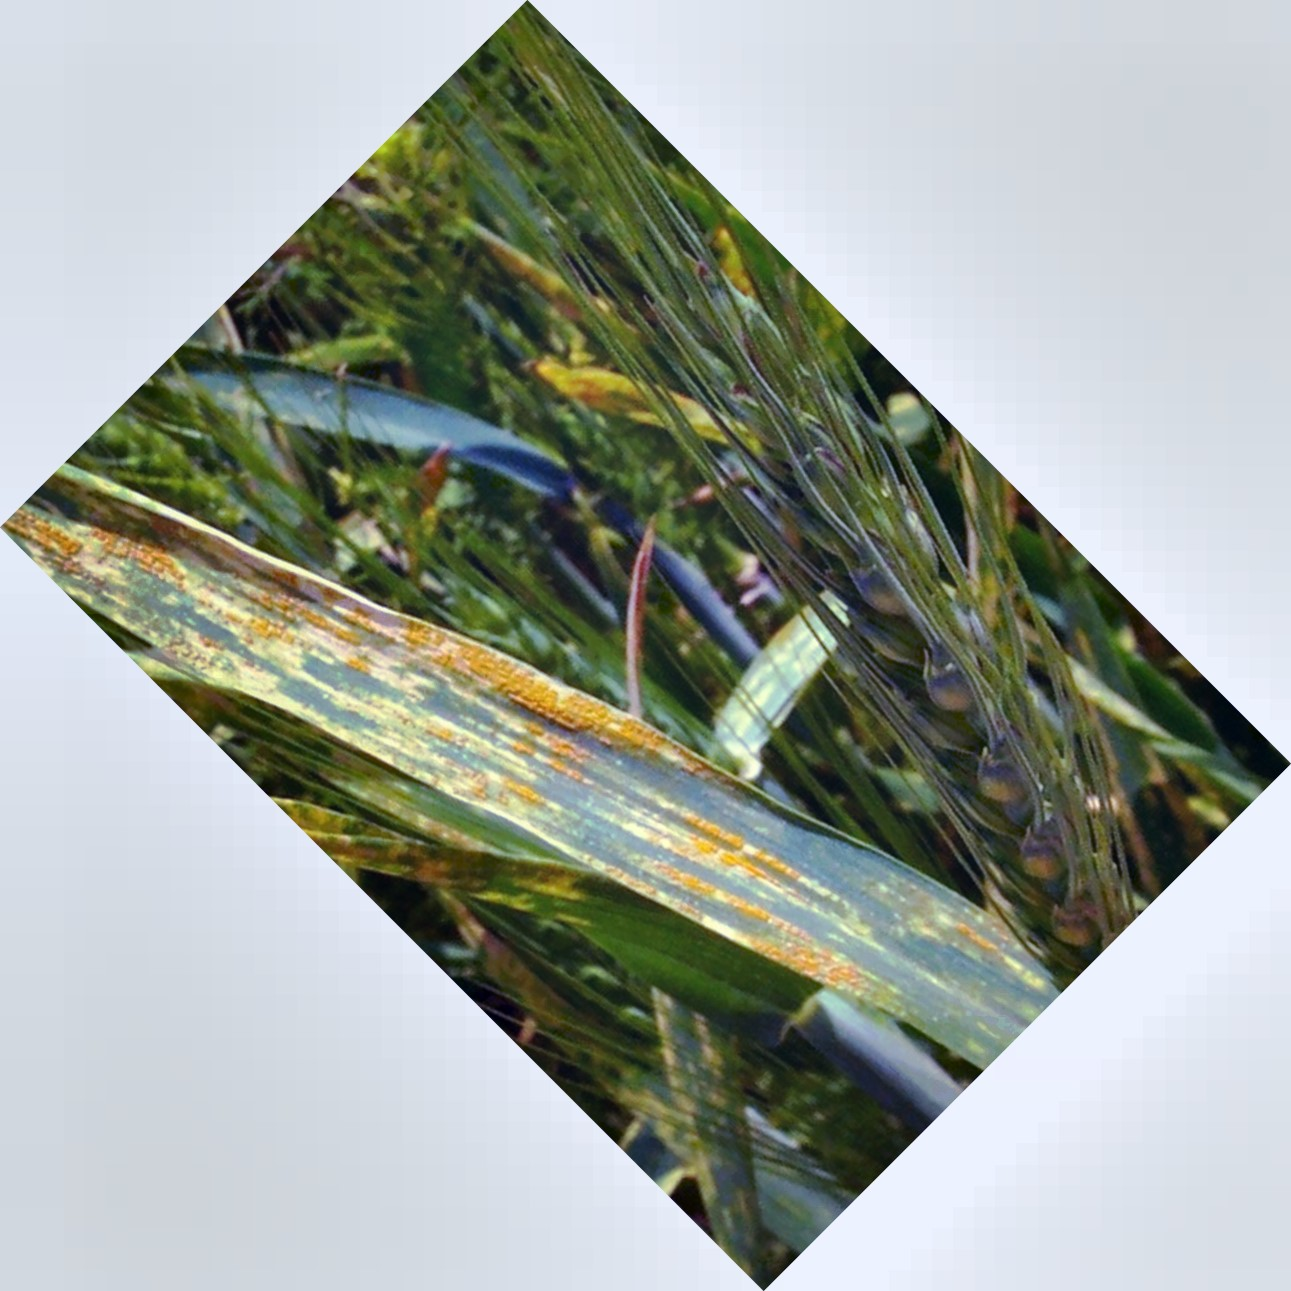Leaf Rust: (113, 520, 859, 990)
